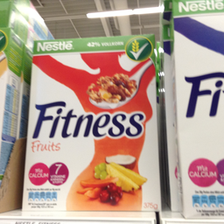cereal: (20, 33, 162, 213), (171, 1, 224, 218)
